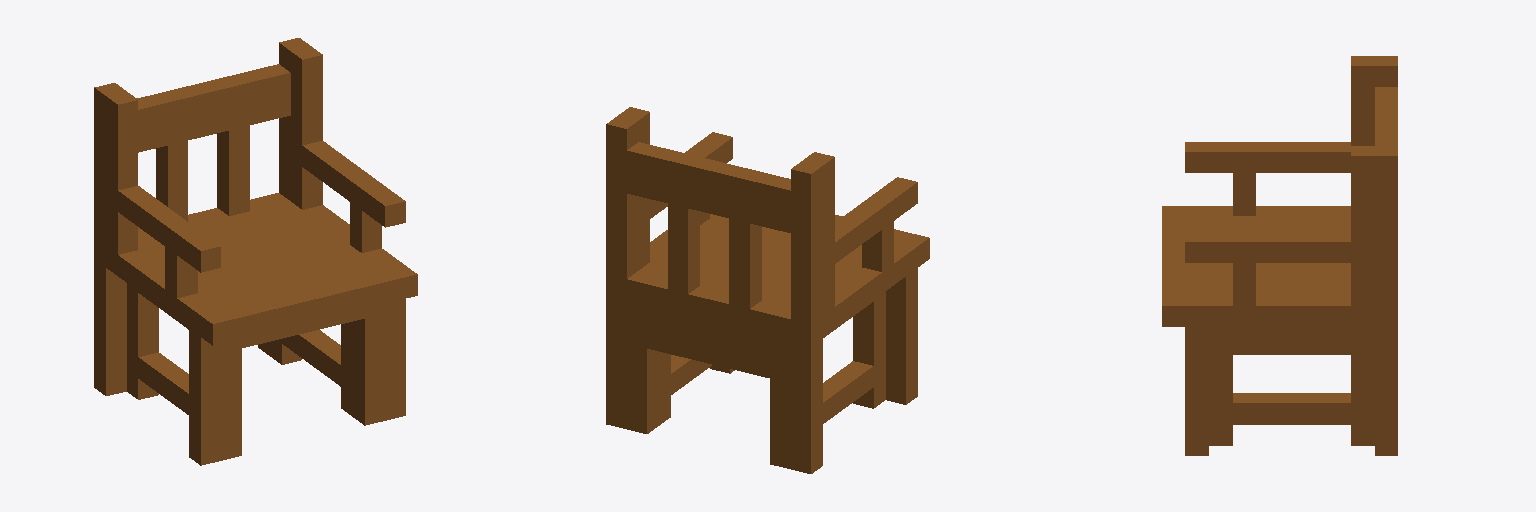
3 renders of one model, left to right at view 1: azimuth 30°, elevation 25°; view 2: azimuth 150°, elevation 25°; view 3: azimuth 270°, elevation 25°, orthographic.
Visible parts, largest first — view 1: Chair_17; view 2: Chair_17; view 3: Chair_17.
Boxes of the visible parts, x1=… form: Chair_17: x1=94, y1=38, x2=417, y2=465; Chair_17: x1=606, y1=107, x2=929, y2=473; Chair_17: x1=1162, y1=56, x2=1397, y2=455.
Bounding box in the file's own units: 1 × 1.4 × 1.
Materials: 1 (1 with a texture image).